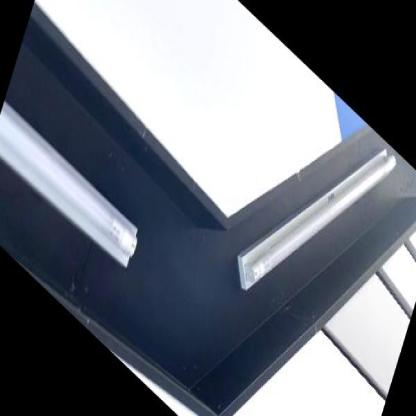light_off: (217, 50, 403, 389), (0, 46, 164, 311)
